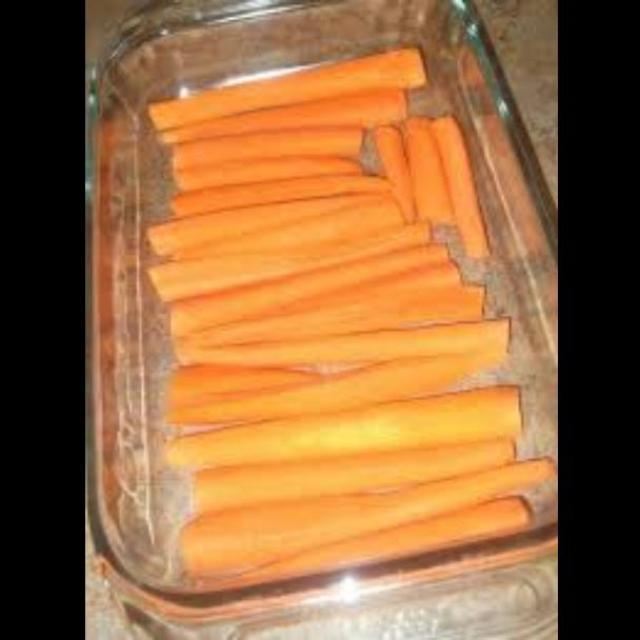Carrot: (128, 26, 541, 566)
